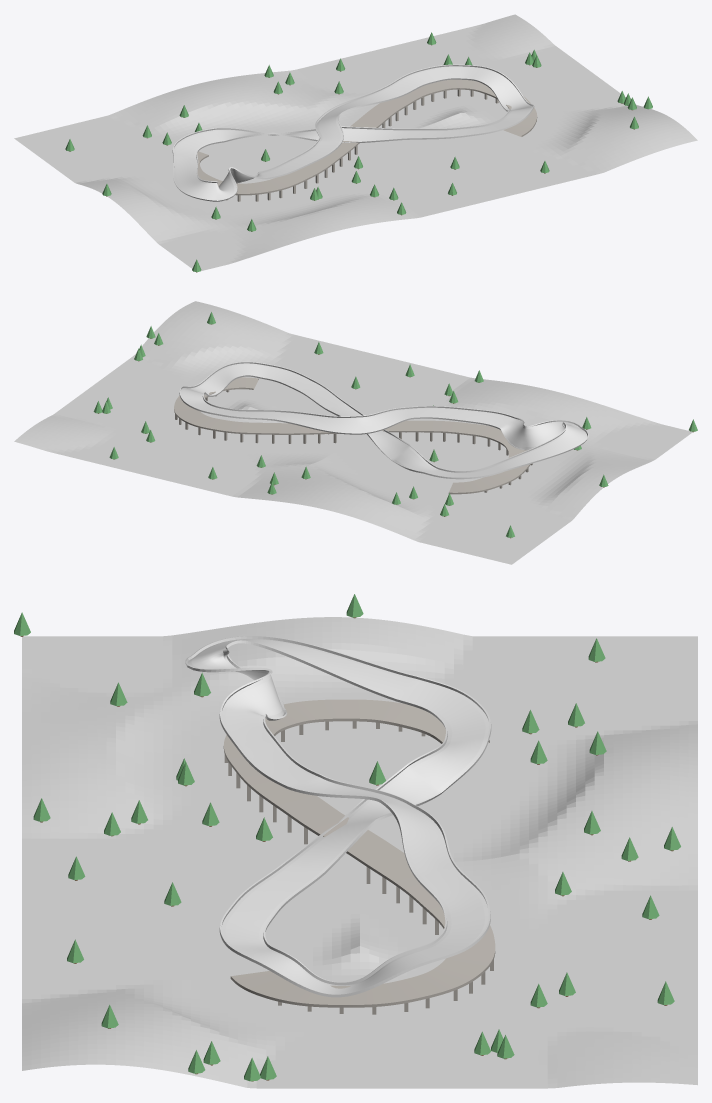
The picture shows the model from 3 angles, top to bottom: view 1: azimuth 30°, elevation 25°; view 2: azimuth 150°, elevation 25°; view 3: azimuth 270°, elevation 25°; orthographic projection. The views are drawn at different scales.
Parts seen in each view (by area): view 1: Terrain, Figure 8, Bridge Deck; view 2: Terrain, Figure 8, Bridge Deck; view 3: Terrain, Figure 8, Bridge Deck.
Boxes of the visible parts, <box> form: Terrain: <box>14,14,697,270</box>; Figure 8: <box>172,64,534,201</box>; Bridge Deck: <box>197,79,537,195</box>; Terrain: <box>14,301,692,564</box>; Figure 8: <box>179,361,588,479</box>; Bridge Deck: <box>174,377,530,494</box>; Terrain: <box>22,617,697,1088</box>; Figure 8: <box>185,636,491,997</box>; Bridge Deck: <box>223,699,495,1007</box>.
Bounding box in the file's own units: 384 × 23.14 × 243.
